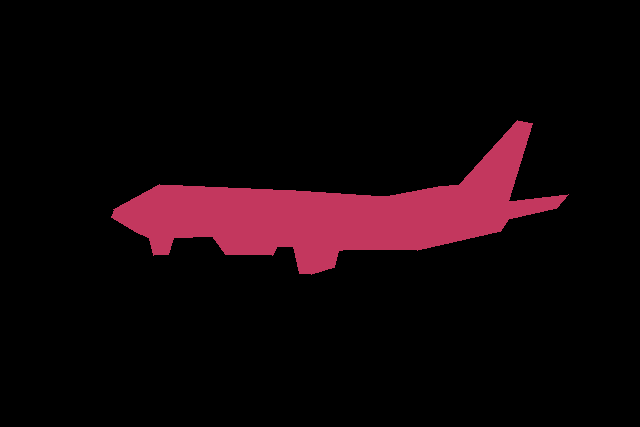Airplane: (111, 120, 569, 274)
